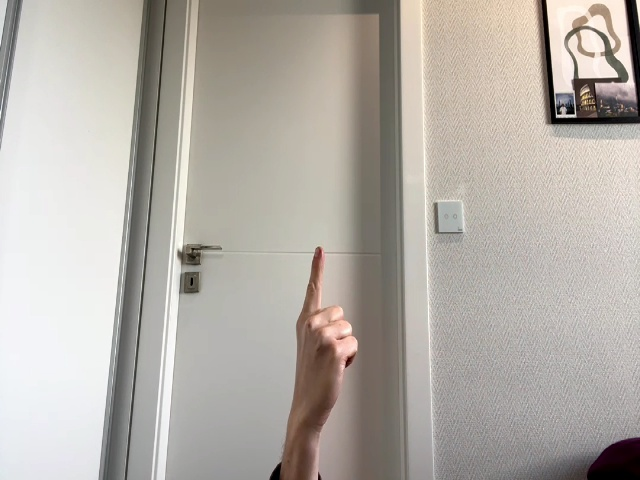D: (292, 247, 358, 434)
